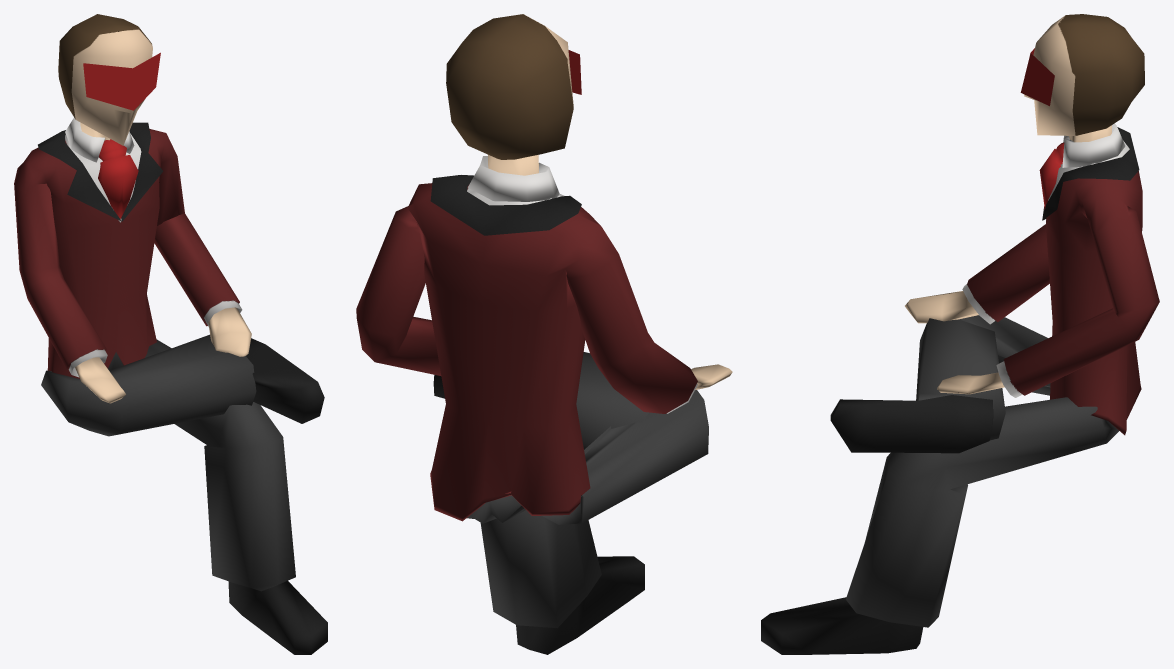
The model's file is Character3.fbx.
3 renders of one model, left to right at view 1: azimuth 30°, elevation 25°; view 2: azimuth 150°, elevation 25°; view 3: azimuth 270°, elevation 25°, orthographic. The views are drawn at different scales.
Visible parts, largest first — view 1: CHARA_Base.003, CHARA_Base_Head.003, CHARA_Base_Mask.003; view 2: CHARA_Base.003, CHARA_Base_Head.003; view 3: CHARA_Base.003, CHARA_Base_Head.003, CHARA_Base_Mask.003.
Boxes of the visible parts, bbox=[...] form: CHARA_Base.003: bbox=[14, 117, 327, 654]; CHARA_Base_Head.003: bbox=[58, 14, 152, 145]; CHARA_Base_Mask.003: bbox=[83, 52, 160, 110]; CHARA_Base.003: bbox=[356, 154, 732, 654]; CHARA_Base_Head.003: bbox=[446, 14, 573, 159]; CHARA_Base.003: bbox=[761, 123, 1159, 654]; CHARA_Base_Head.003: bbox=[1024, 14, 1144, 135]; CHARA_Base_Mask.003: bbox=[1020, 48, 1054, 106].
Bounding box in the file's own units: 57.74 × 148 × 90.79.
